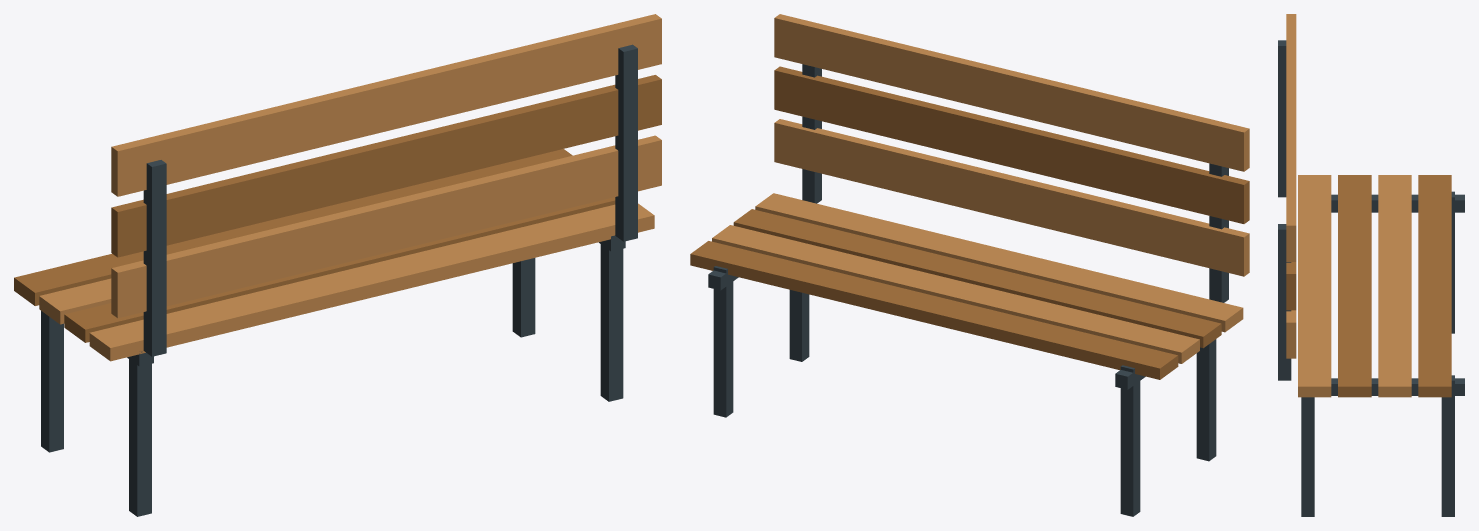
The model's file is waiting_bench.glb.
3 renders of one model, left to right at view 1: azimuth 30°, elevation 25°; view 2: azimuth 150°, elevation 25°; view 3: azimuth 270°, elevation 25°, orthographic. The views are drawn at different scales.
Visible parts, largest first — view 1: WaitingBench; view 2: WaitingBench; view 3: WaitingBench.
Part boxes in pixels (box(x1,y1,x2,y2)): WaitingBench: box(14, 14, 661, 516); WaitingBench: box(690, 14, 1249, 516); WaitingBench: box(1278, 14, 1464, 516).
Bounding box in the file's own units: 1.5 × 1 × 0.56.
